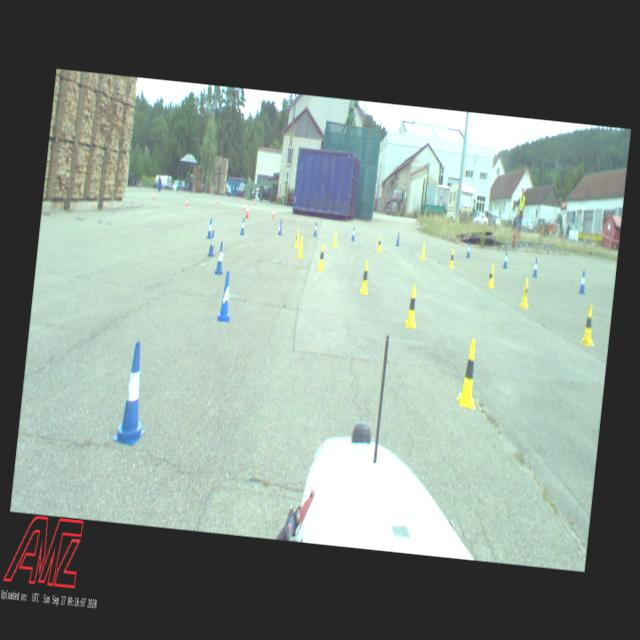blue_cone: (112, 340, 154, 446), (217, 270, 234, 322), (214, 240, 226, 274), (207, 229, 216, 256), (578, 270, 587, 294), (206, 218, 213, 238), (532, 257, 538, 277), (502, 250, 508, 268), (240, 218, 246, 235), (277, 219, 283, 235), (466, 242, 471, 258), (350, 227, 356, 240), (313, 222, 318, 236), (396, 232, 400, 246)
orange_cone: (245, 204, 249, 218), (272, 207, 276, 218), (152, 190, 155, 200), (185, 197, 188, 207), (242, 202, 245, 211)
yellow_cone: (456, 338, 482, 408), (580, 303, 598, 347), (404, 284, 420, 328), (358, 260, 371, 294), (520, 278, 530, 308), (317, 243, 326, 270), (487, 262, 496, 288), (296, 234, 304, 258), (448, 248, 456, 268), (294, 228, 300, 248), (332, 229, 338, 247), (420, 242, 426, 260), (377, 235, 382, 252)
